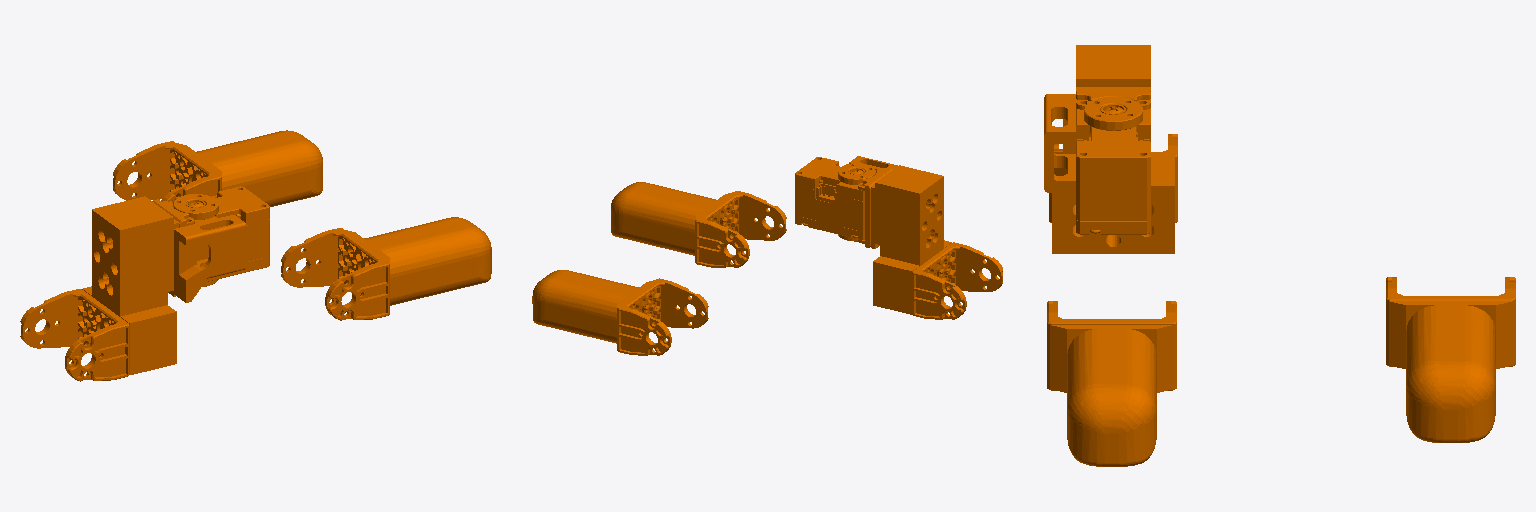
URDF robot description (onshape):
<robot name="onshape">
  <link name="palm_lower">
    <inertial>
      <origin xyz="0.0 0.0 0.0" rpy="0.0 -0.0 0.0"/>
      <mass value="0.237"/>
      <inertia ixx="0.000354094" ixy="-1.193e-06" ixz="-2.445e-06" iyy="0.000260915" iyz="-2.905e-06" izz="0.000529257"/>
    </inertial>
    <visual>
      <geometry>
        <mesh filename="../assets/leap/leap_hand/palm_lower.stl"/>
      </geometry>
      <origin xyz="-0.020095249652862544 0.025757756134899473 -0.034722403578460216" rpy="0.0 -0.0 0.0"/>
      <material name="palm_lower_material">
        <color rgba="0.6039215686274509 0.14901960784313725 0.14901960784313725 1.0"/>
      </material>
    </visual>
    <collision>
      <geometry>
        <mesh filename="../assets/leap/leap_hand/palm_lower.stl"/>
      </geometry>
      <origin xyz="-0.020095249652862544 0.025757756134899473 -0.034722403578460216" rpy="0.0 -0.0 0.0"/>
    </collision>
  </link>
  <link name="mcp_joint">
    <inertial>
      <origin xyz="0.0 0.0 0.0" rpy="0.0 -0.0 0.0"/>
      <mass value="0.044"/>
      <inertia ixx="1.1499e-05" ixy="3.049e-06" ixz="1.21e-07" iyy="7.796e-06" iyz="1.12e-07" izz="1.4759e-05"/>
    </inertial>
    <visual>
      <geometry>
        <mesh filename="../assets/leap/leap_hand/mcp_joint.stl"/>
      </geometry>
      <origin xyz="0.008406902261174496 0.0077662438597169954 0.014657354985032912" rpy="1.6375789613221e-15 -1.021047330249102e-30 1.7177968783327987e-31"/>
      <material name="mcp_joint_material">
        <color rgba="0.8666666666666667 0.8666666666666667 0.050980392156862744 1.0"/>
      </material>
    </visual>
    <collision>
      <geometry>
        <mesh filename="../assets/leap/leap_hand/mcp_joint.stl"/>
      </geometry>
      <origin xyz="0.008406902261174496 0.0077662438597169954 0.014657354985032912" rpy="1.6375789613221e-15 -1.021047330249102e-30 1.7177968783327987e-31"/>
    </collision>
  </link>
  <link name="pip">
    <inertial>
      <origin xyz="0.0 0.0 0.0" rpy="0.0 -0.0 0.0"/>
      <mass value="0.032"/>
      <inertia ixx="4.798e-06" ixy="1.2e-08" ixz="4e-09" iyy="2.862e-06" iyz="1.1e-08" izz="4.234e-06"/>
    </inertial>
    <visual>
      <geometry>
        <mesh filename="../assets/leap/leap_hand/pip.stl"/>
      </geometry>
      <origin xyz="0.009643363092271328 0.0002999999999999895 0.0007840340104173765" rpy="-1.5707963267948966 -1.5707963267948963 0.0"/>
      <material name="pip_material">
        <color rgba="0.7490196078431373 0.7490196078431373 0.7490196078431373 1.0"/>
      </material>
    </visual>
    <collision>
      <geometry>
        <mesh filename="../assets/leap/leap_hand/pip.stl"/>
      </geometry>
      <origin xyz="0.009643363092271328 0.0002999999999999895 0.0007840340104173765" rpy="-1.5707963267948966 -1.5707963267948963 0.0"/>
    </collision>
  </link>
  <link name="dip">
    <inertial>
      <origin xyz="0.0 0.0 0.0" rpy="0.0 -0.0 0.0"/>
      <mass value="0.037"/>
      <inertia ixx="5.542e-06" ixy="-6.07e-07" ixz="-1.7e-08" iyy="5.727e-06" iyz="-2.3e-08" izz="6.682e-06"/>
    </inertial>
    <visual>
      <geometry>
        <mesh filename="../assets/leap/leap_hand/dip.stl"/>
      </geometry>
      <origin xyz="0.021133352895225003 -0.00843211914670488 0.00978508816209524" rpy="-3.141592653589793 4.507511124216441e-32 4.439548105392361e-32"/>
      <material name="dip_material">
        <color rgba="0.8666666666666667 0.8666666666666667 0.050980392156862744 1.0"/>
      </material>
    </visual>
    <collision>
      <geometry>
        <mesh filename="../assets/leap/leap_hand/dip.stl"/>
      </geometry>
      <origin xyz="0.021133352895225003 -0.00843211914670488 0.00978508816209524" rpy="-3.141592653589793 4.507511124216441e-32 4.439548105392361e-32"/>
    </collision>
  </link>
  <link name="fingertip_long">
    <inertial>
      <origin xyz="0.0 0.0 0.0" rpy="0.0 -0.0 0.0"/>
      <mass value="0.016"/>
      <inertia ixx="3.368e-06" ixy="1.15e-07" ixz="0.0" iyy="1.556e-06" iyz="0.0" izz="2.863e-06"/>
    </inertial>
    <visual>
      <geometry>
        <mesh filename="custom_models/fingertip_long.stl"/>
      </geometry>
      <origin xyz="0.013286424108533503 -0.006114238386541987 0.014499999999999498" rpy="3.141592653589793 1.1993117970061735e-33 4.439548105392361e-32"/>
      <material name="fingertip_material">
        <color rgba="0.878 0.467 0.0 1.0"/>
      </material>
    </visual>
    <collision>
      <geometry>
        <mesh filename="custom_models/fingertip_long.stl"/>
      </geometry>
      <origin xyz="0.013286424108533503 -0.006114238386541987 0.014499999999999498" rpy="3.141592653589793 1.1993117970061735e-33 4.439548105392361e-32"/>
    </collision>
  </link>
  <link name="pip_4">
    <inertial>
      <origin xyz="0.0 0.0 0.0" rpy="0.0 -0.0 0.0"/>
      <mass value="0.032"/>
      <inertia ixx="4.798e-06" ixy="1.2e-08" ixz="4e-09" iyy="2.862e-06" iyz="1.1e-08" izz="4.234e-06"/>
    </inertial>
    <visual>
      <geometry>
        <mesh filename="../assets/leap/leap_hand/pip.stl"/>
      </geometry>
      <origin xyz="-0.005356636907728671 0.0002999999999999999 0.0007840340104173782" rpy="-1.5707963267948966 -1.5707963267948963 0.0"/>
      <material name="pip_material">
        <color rgba="0.7490196078431373 0.7490196078431373 0.7490196078431373 1.0"/>
      </material>
    </visual>
    <collision>
      <geometry>
        <mesh filename="../assets/leap/leap_hand/pip.stl"/>
      </geometry>
      <origin xyz="-0.005356636907728671 0.0002999999999999999 0.0007840340104173782" rpy="-1.5707963267948966 -1.5707963267948963 0.0"/>
    </collision>
  </link>
  <link name="thumb_pip">
    <inertial>
      <origin xyz="0.0 0.0 0.0" rpy="0.0 -0.0 0.0"/>
      <mass value="0.003"/>
      <inertia ixx="5.93e-07" ixy="0.0" ixz="0.0" iyy="5.49e-07" iyz="0.0" izz="2.24e-07"/>
    </inertial>
    <visual>
      <geometry>
        <mesh filename="../assets/leap/leap_hand/thumb_pip.stl"/>
      </geometry>
      <origin xyz="0.011961920770611187 -5.30825383648903e-16 -0.0158526489566642" rpy="1.5707963267948966 1.6050198443300153e-46 -3.9204996250525193e-59"/>
      <material name="thumb_pip_material">
        <color rgba="0.8666666666666667 0.8666666666666667 0.050980392156862744 1.0"/>
      </material>
    </visual>
    <collision>
      <geometry>
        <mesh filename="../assets/leap/leap_hand/thumb_pip.stl"/>
      </geometry>
      <origin xyz="0.011961920770611187 -5.30825383648903e-16 -0.0158526489566642" rpy="1.5707963267948966 1.6050198443300153e-46 -3.9204996250525193e-59"/>
    </collision>
  </link>
  <link name="thumb_dip">
    <inertial>
      <origin xyz="0.0 0.0 0.0" rpy="0.0 -0.0 0.0"/>
      <mass value="0.038"/>
      <inertia ixx="8.474e-06" ixy="2.41e-07" ixz="2.6e-08" iyy="3.841e-06" iyz="2.5e-08" izz="7.679e-06"/>
    </inertial>
    <visual>
      <geometry>
        <mesh filename="../assets/leap/leap_hand/thumb_dip.stl"/>
      </geometry>
      <origin xyz="0.043968715707239175 0.0579529529737092 -0.008628676449369476" rpy="1.94289029309401e-16 3.27515792264422e-15 1.112375852965736e-46"/>
      <material name="thumb_dip_material">
        <color rgba="0.8666666666666667 0.8666666666666667 0.050980392156862744 1.0"/>
      </material>
    </visual>
    <collision>
      <geometry>
        <mesh filename="../assets/leap/leap_hand/thumb_dip.stl"/>
      </geometry>
      <origin xyz="0.043968715707239175 0.0579529529737092 -0.008628676449369476" rpy="1.94289029309401e-16 3.27515792264422e-15 1.112375852965736e-46"/>
    </collision>
  </link>
  <link name="thumb_fingertip">
    <inertial>
      <origin xyz="0.0 0.0 0.0" rpy="0.0 -0.0 0.0"/>
      <mass value="0.049"/>
      <inertia ixx="2.0372e-05" ixy="-4.89e-07" ixz="-3e-08" iyy="4.336e-06" iyz="-9.7e-08" izz="1.9845e-05"/>
    </inertial>
    <visual>
      <geometry>
        <mesh filename="../assets/leap/leap_hand/thumb_fingertip.stl"/>
      </geometry>
      <origin xyz="0.06255953846266739 0.07845968291139699 0.048992911807332215" rpy="4.379057701015637e-47 -3.33066907387547e-16 1.2042408677791935e-46"/>
      <material name="thumb_fingertip_material">
        <color rgba="0.6039215686274509 0.14901960784313725 0.14901960784313725 1.0"/>
      </material>
    </visual>
    <collision>
      <geometry>
        <mesh filename="../assets/leap/leap_hand/thumb_fingertip.stl"/>
      </geometry>
      <origin xyz="0.06255953846266739 0.07845968291139699 0.048992911807332215" rpy="4.379057701015637e-47 -3.33066907387547e-16 1.2042408677791935e-46"/>
    </collision>
  </link>
  <link name="mcp_joint_2">
    <inertial>
      <origin xyz="0.0 0.0 0.0" rpy="0.0 -0.0 0.0"/>
      <mass value="0.044"/>
      <inertia ixx="1.1499e-05" ixy="3.049e-06" ixz="1.21e-07" iyy="7.796e-06" iyz="1.12e-07" izz="1.4759e-05"/>
    </inertial>
    <visual>
      <geometry>
        <mesh filename="../assets/leap/leap_hand/mcp_joint.stl"/>
      </geometry>
      <origin xyz="0.008406902261174496 0.0077662438597169954 0.014657354985032914" rpy="1.6375789613221e-15 -1.0076465469034e-30 2.1209300131419907e-61"/>
      <material name="mcp_joint_material">
        <color rgba="0.8666666666666667 0.8666666666666667 0.050980392156862744 1.0"/>
      </material>
    </visual>
    <collision>
      <geometry>
        <mesh filename="../assets/leap/leap_hand/mcp_joint.stl"/>
      </geometry>
      <origin xyz="0.008406902261174496 0.0077662438597169954 0.014657354985032914" rpy="1.6375789613221e-15 -1.0076465469034e-30 2.1209300131419907e-61"/>
    </collision>
  </link>
  <link name="pip_2">
    <inertial>
      <origin xyz="0.0 0.0 0.0" rpy="0.0 -0.0 0.0"/>
      <mass value="0.032"/>
      <inertia ixx="4.798e-06" ixy="1.2e-08" ixz="4e-09" iyy="2.862e-06" iyz="1.1e-08" izz="4.234e-06"/>
    </inertial>
    <visual>
      <geometry>
        <mesh filename="../assets/leap/leap_hand/pip.stl"/>
      </geometry>
      <origin xyz="0.009643363092271328 0.0002999999999999947 0.0007840340104173765" rpy="-1.5707963267948966 -1.5707963267948963 0.0"/>
      <material name="pip_material">
        <color rgba="0.7490196078431373 0.7490196078431373 0.7490196078431373 1.0"/>
      </material>
    </visual>
    <collision>
      <geometry>
        <mesh filename="../assets/leap/leap_hand/pip.stl"/>
      </geometry>
      <origin xyz="0.009643363092271328 0.0002999999999999947 0.0007840340104173765" rpy="-1.5707963267948966 -1.5707963267948963 0.0"/>
    </collision>
  </link>
  <link name="dip_2">
    <inertial>
      <origin xyz="0.0 0.0 0.0" rpy="0.0 -0.0 0.0"/>
      <mass value="0.037"/>
      <inertia ixx="5.542e-06" ixy="-6.07e-07" ixz="-1.7e-08" iyy="5.727e-06" iyz="-2.3e-08" izz="6.682e-06"/>
    </inertial>
    <visual>
      <geometry>
        <mesh filename="../assets/leap/leap_hand/dip.stl"/>
      </geometry>
      <origin xyz="0.021133352895225003 -0.008432119146704865 0.009785088162095237" rpy="-3.141592653589793 2.1146933785271956e-32 1.4408183216511869e-31"/>
      <material name="dip_material">
        <color rgba="0.8666666666666667 0.8666666666666667 0.050980392156862744 1.0"/>
      </material>
    </visual>
    <collision>
      <geometry>
        <mesh filename="../assets/leap/leap_hand/dip.stl"/>
      </geometry>
      <origin xyz="0.021133352895225003 -0.008432119146704865 0.009785088162095237" rpy="-3.141592653589793 2.1146933785271956e-32 1.4408183216511869e-31"/>
    </collision>
  </link>
  <link name="fingertip_2">
    <inertial>
      <origin xyz="0.0 0.0 0.0" rpy="0.0 -0.0 0.0"/>
      <mass value="0.016"/>
      <inertia ixx="3.368e-06" ixy="1.15e-07" ixz="0.0" iyy="1.556e-06" iyz="0.0" izz="2.863e-06"/>
    </inertial>
    <visual>
      <geometry>
        <mesh filename="../assets/leap/leap_hand/fingertip.stl"/>
      </geometry>
      <origin xyz="0.013286424108533496 -0.006114238386542001 0.014499999999999496" rpy="3.141592653589793 -4.317959788283594e-33 1.4408183216511869e-31"/>
      <material name="fingertip_material">
        <color rgba="0.8666666666666667 0.8666666666666667 0.050980392156862744 1.0"/>
      </material>
    </visual>
    <collision>
      <geometry>
        <mesh filename="../assets/leap/leap_hand/fingertip.stl"/>
      </geometry>
      <origin xyz="0.013286424108533496 -0.006114238386542001 0.014499999999999496" rpy="3.141592653589793 -4.317959788283594e-33 1.4408183216511869e-31"/>
    </collision>
  </link>
  <link name="mcp_joint_3_long">
    <inertial>
      <origin xyz="0.0 0.0 0.0" rpy="0.0 -0.0 0.0"/>
      <mass value="0.044"/>
      <inertia ixx="1.1499e-05" ixy="3.049e-06" ixz="1.21e-07" iyy="7.796e-06" iyz="1.12e-07" izz="1.4759e-05"/>
    </inertial>
    <visual>
      <geometry>
        <mesh filename="custom_models/mcp_joint_long.stl"/>
      </geometry>
      <origin xyz="0.0084069022611745 0.007766243859716996 0.014657354985032914" rpy="1.6375789613221e-15 -1.0059504988632627e-30 5.729641584552035e-32"/>
      <material name="mcp_joint_material">
        <color rgba="0.878 0.467 0.0 1.0"/>
      </material>
    </visual>
    <collision>
      <geometry>
        <mesh filename="custom_models/mcp_joint_long.stl"/>
      </geometry>
      <origin xyz="0.0084069022611745 0.007766243859716996 0.014657354985032914" rpy="1.6375789613221e-15 -1.0059504988632627e-30 5.729641584552035e-32"/>
    </collision>
  </link>
  <link name="pip_3">
    <inertial>
      <origin xyz="0.0 0.0 0.0" rpy="0.0 -0.0 0.0"/>
      <mass value="0.032"/>
      <inertia ixx="4.798e-06" ixy="1.2e-08" ixz="4e-09" iyy="2.862e-06" iyz="1.1e-08" izz="4.234e-06"/>
    </inertial>
    <visual>
      <geometry>
        <mesh filename="../assets/leap/leap_hand/pip.stl"/>
      </geometry>
      <origin xyz="0.009643363092271331 0.00029999999999998084 0.0007840340104173765" rpy="-1.5707963267948966 -1.5707963267948963 0.0"/>
      <material name="pip_material">
        <color rgba="0.7490196078431373 0.7490196078431373 0.7490196078431373 1.0"/>
      </material>
    </visual>
    <collision>
      <geometry>
        <mesh filename="../assets/leap/leap_hand/pip.stl"/>
      </geometry>
      <origin xyz="0.009643363092271331 0.00029999999999998084 0.0007840340104173765" rpy="-1.5707963267948966 -1.5707963267948963 0.0"/>
    </collision>
  </link>
  <link name="dip_3">
    <inertial>
      <origin xyz="0.0 0.0 0.0" rpy="0.0 -0.0 0.0"/>
      <mass value="0.037"/>
      <inertia ixx="5.542e-06" ixy="-6.07e-07" ixz="-1.7e-08" iyy="5.727e-06" iyz="-2.3e-08" izz="6.682e-06"/>
    </inertial>
    <visual>
      <geometry>
        <mesh filename="../assets/leap/leap_hand/dip.stl"/>
      </geometry>
      <origin xyz="0.021133352895225006 -0.008432119146704865 0.009785088162095237" rpy="-3.141592653589793 -1.4095651113919093e-33 1.5565411607615035e-32"/>
      <material name="dip_material">
        <color rgba="0.8666666666666667 0.8666666666666667 0.050980392156862744 1.0"/>
      </material>
    </visual>
    <collision>
      <geometry>
        <mesh filename="../assets/leap/leap_hand/dip.stl"/>
      </geometry>
      <origin xyz="0.021133352895225006 -0.008432119146704865 0.009785088162095237" rpy="-3.141592653589793 -1.4095651113919093e-33 1.5565411607615035e-32"/>
    </collision>
  </link>
  <link name="fingertip_3_long">
    <inertial>
      <origin xyz="0.0 0.0 0.0" rpy="0.0 -0.0 0.0"/>
      <mass value="0.016"/>
      <inertia ixx="3.368e-06" ixy="1.15e-07" ixz="0.0" iyy="1.556e-06" iyz="0.0" izz="2.863e-06"/>
    </inertial>
    <visual>
      <geometry>
        <mesh filename="custom_models/fingertip_long.stl"/>
      </geometry>
      <origin xyz="0.013286424108533501 -0.006114238386541987 0.0144999999999995" rpy="3.141592653589793 8.61707169505754e-33 1.5565411607615035e-32"/>
      <material name="fingertip_material">
        <color rgba="0.878 0.467 0.0 1.0"/>
      </material>
    </visual>
    <collision>
      <geometry>
        <mesh filename="custom_models/fingertip_long.stl"/>
      </geometry>
      <origin xyz="0.013286424108533501 -0.006114238386541987 0.0144999999999995" rpy="3.141592653589793 8.61707169505754e-33 1.5565411607615035e-32"/>
    </collision>
  </link>
  <joint name="1" type="revolute">
    <parent link="palm_lower"/>
    <child link="mcp_joint"/>
    <origin xyz="-0.007095249652862546 0.023057756134899472 -0.01872240357846022" rpy="1.570796326794895 1.5707963267948946 0.0"/>
    <axis xyz="0.0 0.0 -1.0"/>
    <limit effort="0.95" velocity="8.48" lower="-0.314" upper="2.23"/>
  </joint>
  <joint name="0" type="revolute">
    <parent link="mcp_joint"/>
    <child link="pip"/>
    <origin xyz="-0.012200000000000008 0.038099999999999995 0.0145" rpy="-1.5707963267948966 -1.0065212660796337e-15 1.5707963267948943"/>
    <axis xyz="0.0 0.0 -1.0"/>
    <limit effort="0.95" velocity="8.48" lower="-1.047" upper="1.047"/>
  </joint>
  <joint name="2" type="revolute">
    <parent link="pip"/>
    <child link="dip"/>
    <origin xyz="0.014999999999999968 0.014299999999999905 -0.012999999999999824" rpy="1.570796326794896 -1.5707963267948963 0.0"/>
    <axis xyz="0.0 0.0 -1.0"/>
    <limit effort="0.95" velocity="8.48" lower="-0.506" upper="1.885"/>
  </joint>
  <joint name="3" type="revolute">
    <parent link="dip"/>
    <child link="fingertip_long"/>
    <origin xyz="-4.088058249557269e-09 -0.03610000421036737 0.0002000000000000786" rpy="4.5935029425113685e-17 -2.8730071914463795e-16 4.439548105392361e-32"/>
    <axis xyz="0.0 0.0 -1.0"/>
    <limit effort="0.95" velocity="8.48" lower="-0.366" upper="2.042"/>
  </joint>
  <joint name="12" type="revolute">
    <parent link="palm_lower"/>
    <child link="pip_4"/>
    <origin xyz="-0.06939524965286253 -0.0012422438651005258 -0.021622403578460216" rpy="-8.238176646493942e-17 1.5707963267948957 0.0"/>
    <axis xyz="0.0 0.0 -1.0"/>
    <limit effort="0.95" velocity="8.48" lower="-0.349" upper="2.094"/>
  </joint>
  <joint name="13" type="revolute">
    <parent link="pip_4"/>
    <child link="thumb_pip"/>
    <origin xyz="-2.7755575615628914e-17 0.014300000000000005 -0.013000000000000012" rpy="1.570796326794896 -1.5707963267948963 0.0"/>
    <axis xyz="0.0 0.0 -1.0"/>
    <limit effort="0.95" velocity="8.48" lower="-0.47" upper="2.443"/>
  </joint>
  <joint name="14" type="revolute">
    <parent link="thumb_pip"/>
    <child link="thumb_dip"/>
    <origin xyz="0.0 0.014499999999999966 -0.017000000000000053" rpy="-1.5707963267948966 1.6050198443300131e-46 -1.9721522630516625e-31"/>
    <axis xyz="0.0 0.0 -1.0"/>
    <limit effort="0.95" velocity="8.48" lower="-1.2" upper="1.9"/>
  </joint>
  <joint name="15" type="revolute">
    <parent link="thumb_dip"/>
    <child link="thumb_fingertip"/>
    <origin xyz="-1.249000902703301e-16 0.046599999999999864 0.0001999999999999771" rpy="1.506395849149178e-44 5.423418723393526e-31 3.141592653589793"/>
    <axis xyz="0.0 0.0 -1.0"/>
    <limit effort="0.95" velocity="8.48" lower="-1.34" upper="1.88"/>
  </joint>
  <joint name="5" type="revolute">
    <parent link="palm_lower"/>
    <child link="mcp_joint_2"/>
    <origin xyz="-0.007095249652862546 -0.022392243865100525 -0.01872240357846022" rpy="1.570796326794895 1.5707963267948946 0.0"/>
    <axis xyz="0.0 0.0 -1.0"/>
    <limit effort="0.95" velocity="8.48" lower="-0.314" upper="2.23"/>
  </joint>
  <joint name="4" type="revolute">
    <parent link="mcp_joint_2"/>
    <child link="pip_2"/>
    <origin xyz="-0.012200000000000008 0.038099999999999995 0.0145" rpy="-1.5707963267948966 -1.0065212660796337e-15 1.5707963267948943"/>
    <axis xyz="0.0 0.0 -1.0"/>
    <limit effort="0.95" velocity="8.48" lower="-1.047" upper="1.047"/>
  </joint>
  <joint name="6" type="revolute">
    <parent link="pip_2"/>
    <child link="dip_2"/>
    <origin xyz="0.014999999999999968 0.014299999999999905 -0.012999999999999824" rpy="1.570796326794896 -1.5707963267948963 0.0"/>
    <axis xyz="0.0 0.0 -1.0"/>
    <limit effort="0.95" velocity="8.48" lower="-0.506" upper="1.885"/>
  </joint>
  <joint name="7" type="revolute">
    <parent link="dip_2"/>
    <child link="fingertip_2"/>
    <origin xyz="-4.088058249557269e-09 -0.03610000421036737 0.0002000000000000786" rpy="4.5935029425113685e-17 -2.8730071914463795e-16 4.439548105392361e-32"/>
    <axis xyz="0.0 0.0 -1.0"/>
    <limit effort="0.95" velocity="8.48" lower="-0.366" upper="2.042"/>
  </joint>
  <joint name="9" type="revolute">
    <parent link="palm_lower"/>
    <child link="mcp_joint_3_long"/>
    <origin xyz="-0.007095249652862546 -0.06784224386510052 -0.01872240357846022" rpy="1.570796326794895 1.5707963267948946 0.0"/>
    <axis xyz="0.0 0.0 -1.0"/>
    <limit effort="0.95" velocity="8.48" lower="-0.314" upper="2.23"/>
  </joint>
  <joint name="8" type="revolute">
    <parent link="mcp_joint_3_long"/>
    <child link="pip_3"/>
    <origin xyz="-0.012200000000000007713 0.053099999999999994982 0.014500000000000000736" rpy="-1.5707963267948966 -1.0065212660796337e-15 1.5707963267948943"/>
    <axis xyz="0.0 0.0 -1.0"/>
    <limit effort="0.95" velocity="8.48" lower="-1.047" upper="1.047"/>
  </joint>
  <joint name="10" type="revolute">
    <parent link="pip_3"/>
    <child link="dip_3"/>
    <origin xyz="0.014999999999999968 0.014299999999999905 -0.012999999999999824" rpy="1.570796326794896 -1.5707963267948963 0.0"/>
    <axis xyz="0.0 0.0 -1.0"/>
    <limit effort="0.95" velocity="8.48" lower="-0.506" upper="1.885"/>
  </joint>
  <joint name="11" type="revolute">
    <parent link="dip_3"/>
    <child link="fingertip_3_long"/>
    <origin xyz="-4.088058249557269e-09 -0.03610000421036737 0.0002000000000000786" rpy="4.5935029425113685e-17 -2.8730071914463795e-16 4.439548105392361e-32"/>
    <axis xyz="0.0 0.0 -1.0"/>
    <limit effort="0.95" velocity="8.48" lower="-0.366" upper="2.042"/>
  </joint>
</robot>

--- Render facts (derived) ---
3 views of the same robot in one strip: view 1: azimuth 30°, elevation 25°; view 2: azimuth 150°, elevation 25°; view 3: azimuth 270°, elevation 25° (orthographic).
Model onshape with 17 links and 16 joints (16 revolute), rooted at palm_lower, posed every joint at zero.
Links seen in each view (by area): view 1: mcp_joint_3_long, fingertip_3_long, fingertip_long; view 2: mcp_joint_3_long, fingertip_3_long, fingertip_long; view 3: mcp_joint_3_long, fingertip_3_long, fingertip_long.
Boxes of the visible links, x1=… form: mcp_joint_3_long: x1=20, y1=186, x2=269, y2=381; fingertip_3_long: x1=281, y1=217, x2=491, y2=320; fingertip_long: x1=113, y1=130, x2=322, y2=206; mcp_joint_3_long: x1=795, y1=156, x2=1002, y2=319; fingertip_3_long: x1=611, y1=182, x2=786, y2=267; fingertip_long: x1=532, y1=270, x2=708, y2=355; mcp_joint_3_long: x1=1044, y1=45, x2=1177, y2=253; fingertip_3_long: x1=1047, y1=301, x2=1176, y2=466; fingertip_long: x1=1386, y1=277, x2=1515, y2=442.
Size in the robot's own frame: 0.1766 by 0.1263 by 0.0549 metres.
Meshes: 10 distinct files referenced, 3 mesh visuals loaded (2 binary STL); not drawn: 14 (reference not matched to a file when rendering).